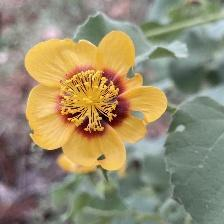indian mallow: (21, 30, 171, 179)
